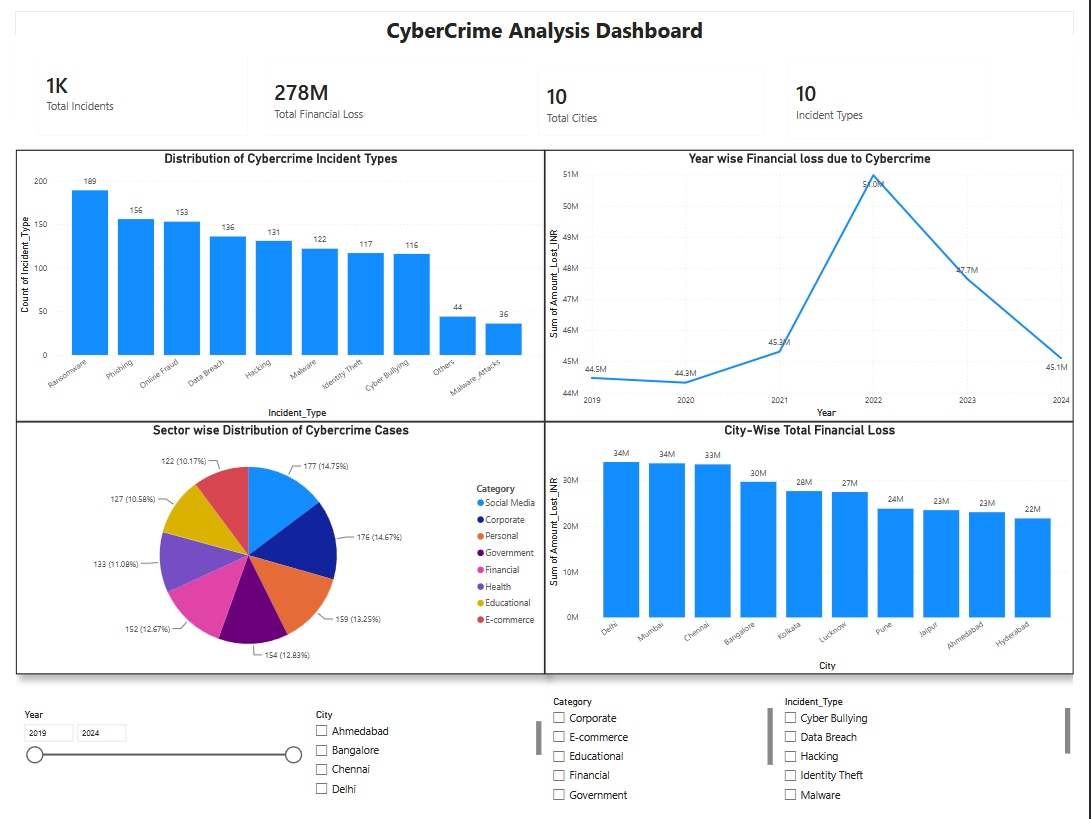

The dashboard page shown, as its layout file describes it:
{"tool":"powerbi","page":{"name":"Page 1","canvas":[1600,1200],"ordinal":0},"visuals":[{"type":"cardVisual","fields":{"Data":["cybersecurity_cases_india_combined.Total Incidents"]},"box":[15.9,34.1,352.3,170.5],"z":0},{"type":"cardVisual","fields":{"Data":["cybersecurity_cases_india_combined.Total Financial Loss"]},"box":[361.4,54.5,438.6,150],"z":1000},{"type":"cardVisual","fields":{"Data":["cybersecurity_cases_india_combined.Total Cities"]},"box":[772.7,70.5,377.3,134.1],"z":2000},{"type":"cardVisual","fields":{"Data":["cybersecurity_cases_india_combined.Incident Types"]},"box":[1150,54.5,340.9,154.5],"z":3000},{"type":"clusteredColumnChart","title":"Distribution of Cybercrime Incident Types","fields":{"Category":["cybersecurity_cases_india_combined.Incident_Type"],"Y":["CountNonNull(cybersecurity_cases_india_combined.Incident_Type)"]},"box":[0,209.1,800,411.4],"z":4000},{"type":"lineChart","title":"Year wise Financial loss due to Cybercrime","fields":{"Category":["cybersecurity_cases_india_combined.Year"],"Y":["Sum(cybersecurity_cases_india_combined.Amount_Lost_INR)"]},"box":[800,209.1,800,411.4],"z":4001},{"type":"pieChart","title":"Sector wise Distribution of Cybercrime Cases","fields":{"Category":["cybersecurity_cases_india_combined.Category"],"Y":["CountNonNull(cybersecurity_cases_india_combined.Category)"]},"box":[0,620.5,800,381.8],"z":4002},{"type":"clusteredColumnChart","title":"City-Wise Total Financial Loss","fields":{"Category":["cybersecurity_cases_india_combined.City"],"Y":["Sum(cybersecurity_cases_india_combined.Amount_Lost_INR)"]},"box":[800,620.5,800,381.8],"z":4003},{"type":"textbox","box":[0,0,1600,65.9],"z":4004},{"type":"slicer","fields":{"Values":["cybersecurity_cases_india_combined.Year"]},"box":[0,1050,440.9,150],"z":4005},{"type":"slicer","fields":{"Values":["cybersecurity_cases_india_combined.City"]},"box":[440.9,1050,359.1,150],"z":4006},{"type":"slicer","fields":{"Values":["cybersecurity_cases_india_combined.Category"]},"box":[800,1029.5,350,170.5],"z":4007},{"type":"slicer","fields":{"Values":["cybersecurity_cases_india_combined.Incident_Type"]},"box":[1150,1029.5,450,170.5],"z":4008}]}

Visuals, with their boxes in screenshot pixels (x1, y1, x2, y2), scaled from the page's 1600x1200 canvas onto the 1091x819 screenshot:
cardVisual - cybersecurity_cases_india_combined.Total Incidents: [11, 23, 251, 140]
cardVisual - cybersecurity_cases_india_combined.Total Financial Loss: [246, 37, 546, 140]
cardVisual - cybersecurity_cases_india_combined.Total Cities: [527, 48, 784, 140]
cardVisual - cybersecurity_cases_india_combined.Incident Types: [784, 37, 1017, 143]
"Distribution of Cybercrime Incident Types" clusteredColumnChart: [0, 143, 546, 423]
"Year wise Financial loss due to Cybercrime" lineChart: [546, 143, 1090, 423]
"Sector wise Distribution of Cybercrime Cases" pieChart: [0, 423, 546, 684]
"City-Wise Total Financial Loss" clusteredColumnChart: [546, 423, 1090, 684]
textbox: [0, 0, 1090, 45]
slicer - cybersecurity_cases_india_combined.Year: [0, 717, 301, 818]
slicer - cybersecurity_cases_india_combined.City: [301, 717, 546, 818]
slicer - cybersecurity_cases_india_combined.Category: [546, 703, 784, 818]
slicer - cybersecurity_cases_india_combined.Incident_Type: [784, 703, 1090, 818]
